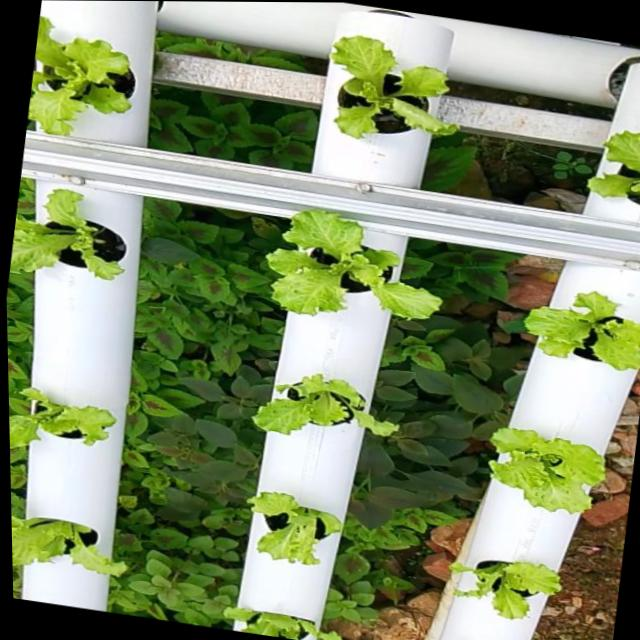Baby: (265, 211, 442, 319), (329, 34, 459, 138), (28, 15, 133, 134), (10, 188, 126, 280), (489, 429, 606, 516), (524, 292, 640, 372), (251, 375, 398, 438), (247, 493, 343, 567), (11, 516, 124, 578), (9, 387, 115, 449), (450, 563, 563, 621), (590, 131, 640, 204)
